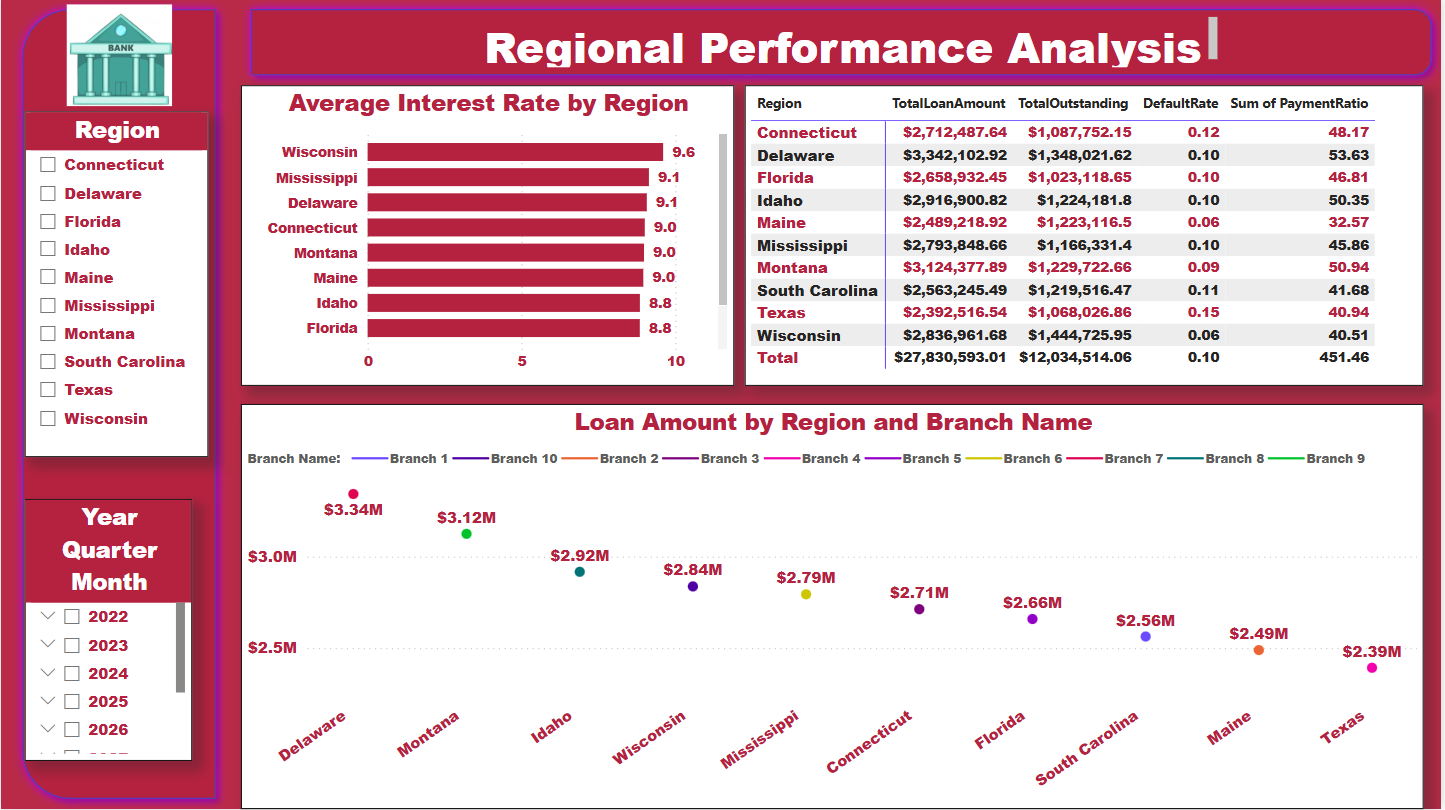

The page's visual inventory and layout, read from the dashboard file:
{"tool":"powerbi","page":{"name":"Page 3","canvas":[1280,720],"ordinal":2},"visuals":[{"type":"shape","box":[10,0,190,720],"z":0},{"type":"shape","box":[212.9,0,1067.1,77.1],"z":1},{"type":"barChart","title":"Average Interest Rate by Region","fields":{"Y":["fact_loans.AverageInterestRate"],"Category":["dim_branch.Region"]},"box":[212.9,77.1,438.6,267.1],"z":2},{"type":"pivotTable","fields":{"Rows":["dim_branch.Region"],"Values":["fact_loans.TotalLoanAmount","fact_loans.TotalOutstanding","fact_loans.DefaultRate","Sum(fact_loans.PaymentRatio)"]},"box":[661.4,77.1,602.9,267.1],"z":3},{"type":"lineChart","title":"Loan Amount by Region and Branch Name","fields":{"Category":["dim_branch.Region"],"Y":["Sum(fact_loans.LoanAmount)"],"Series":["dim_branch.BranchName"]},"box":[212.9,360,1051.4,360],"z":4},{"type":"slicer","title":"Region","fields":{"Values":["dim_branch.Region"]},"box":[21.4,100,162.9,307.1],"z":5},{"type":"slicer","title":"Year Quarter Month","fields":{"Values":["Calender.Date.Variation.Date Hierarchy.Year","Calender.Date.Variation.Date Hierarchy.Quarter","Calender.Date.Variation.Date Hierarchy.Month"]},"box":[21.4,444.3,148.6,232.9],"z":6},{"type":"textbox","box":[418.6,11.4,667.1,54.3],"z":7},{"type":"image","box":[34.3,0,141.4,100],"z":8}]}

Visuals, with their boxes in screenshot pixels (x1, y1, x2, y2), scaled from the page's 1280x720 canvas onto the 1445x810 screenshot:
shape: crop(11, 0, 226, 809)
shape: crop(240, 0, 1444, 87)
"Average Interest Rate by Region" barChart: crop(240, 87, 735, 387)
pivotTable - dim_branch.Region x fact_loans.TotalLoanAmount: crop(747, 87, 1427, 387)
"Loan Amount by Region and Branch Name" lineChart: crop(240, 405, 1427, 809)
"Region" slicer: crop(24, 112, 208, 458)
"Year Quarter Month" slicer: crop(24, 500, 192, 762)
textbox: crop(473, 13, 1226, 74)
image: crop(39, 0, 198, 112)
